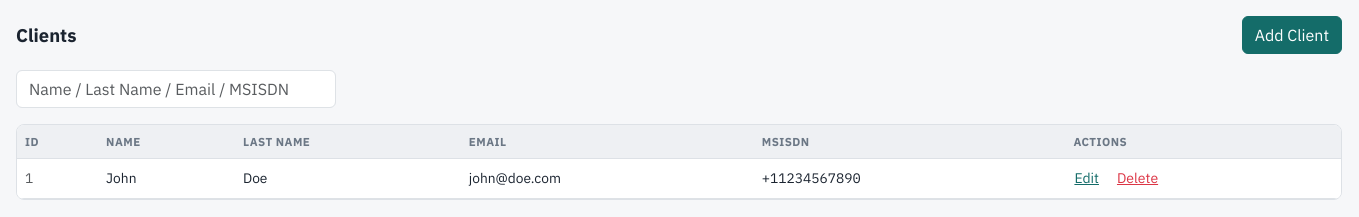
Test case: deleting a client with no subscriptions removes it from the list
Check: the text "John" is shown, box [98,159,235,199]
Step 1. Click the button "Delete" → {"x": 1138, "y": 179}, box [1116,167,1159,190]
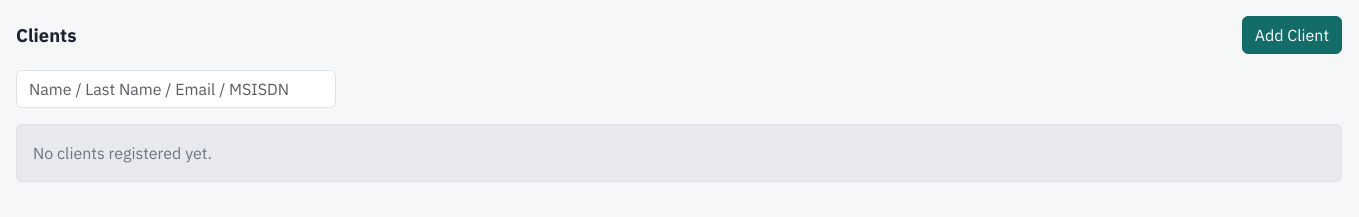
Check: the text "John" is gone
